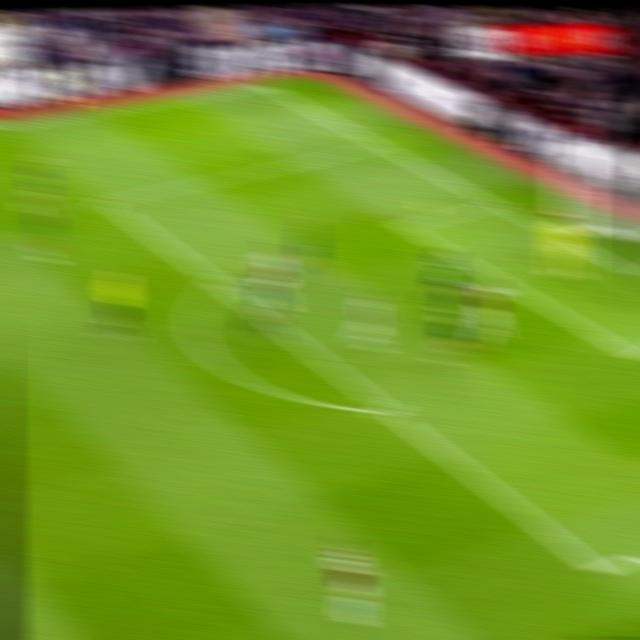bigarea_bottom_inner: (576, 547, 620, 590)
bigarea_top_inner: (92, 187, 124, 215)
bigarea_top_outter: (366, 135, 394, 154)
bottom_arc_area_intersection: (371, 394, 404, 423)
corner: (247, 77, 276, 92)
smallarea_top_inner: (390, 213, 420, 238)
smallarea_top_outter: (480, 192, 510, 215)
top_arc_area_intersection: (204, 272, 232, 294)
